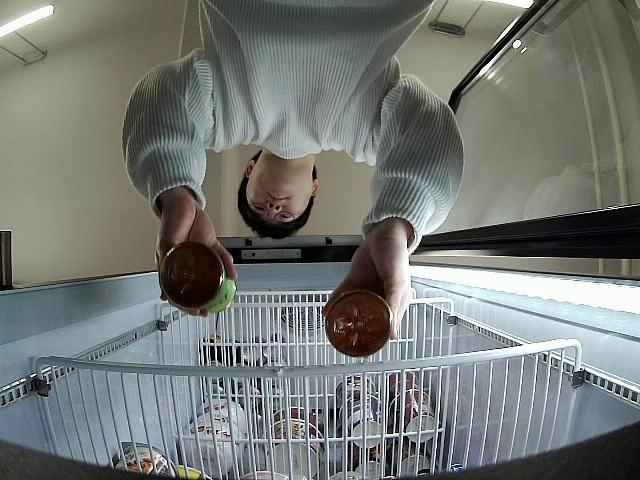19_17cha: (160, 243, 236, 314), (324, 290, 392, 357)
